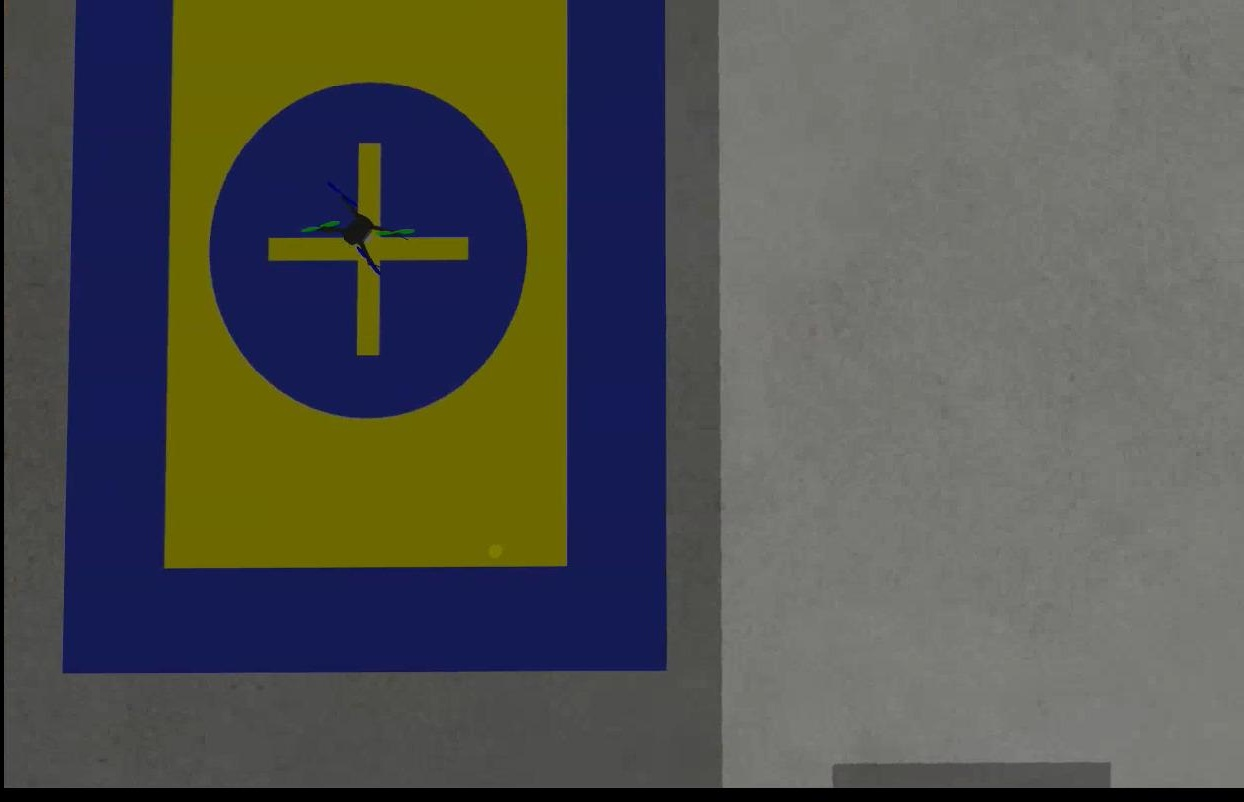large_base: (59, 1, 668, 679)
